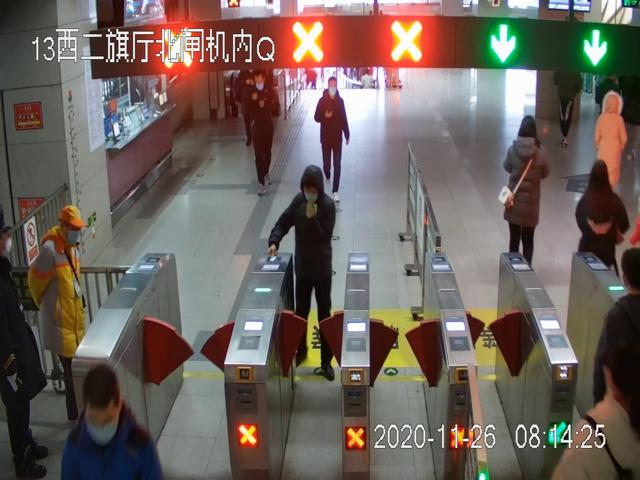person: (267, 163, 338, 382), (29, 205, 87, 423), (503, 114, 548, 266), (243, 71, 279, 197), (316, 76, 349, 204)
